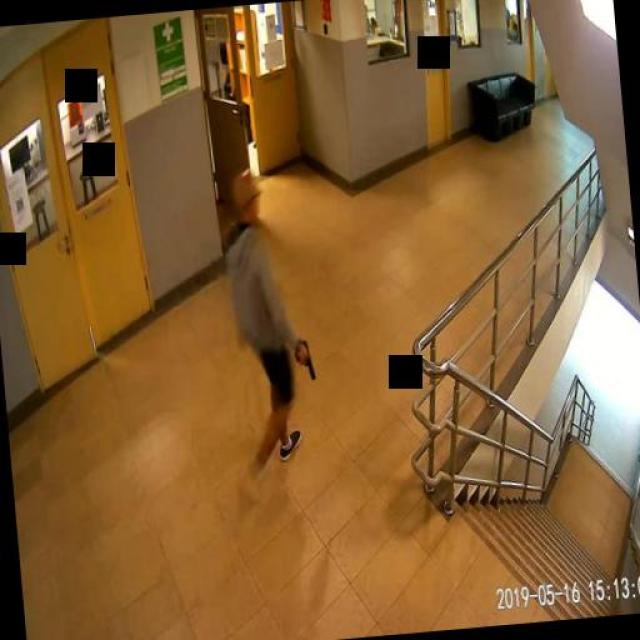gun: (292, 339, 314, 379)
